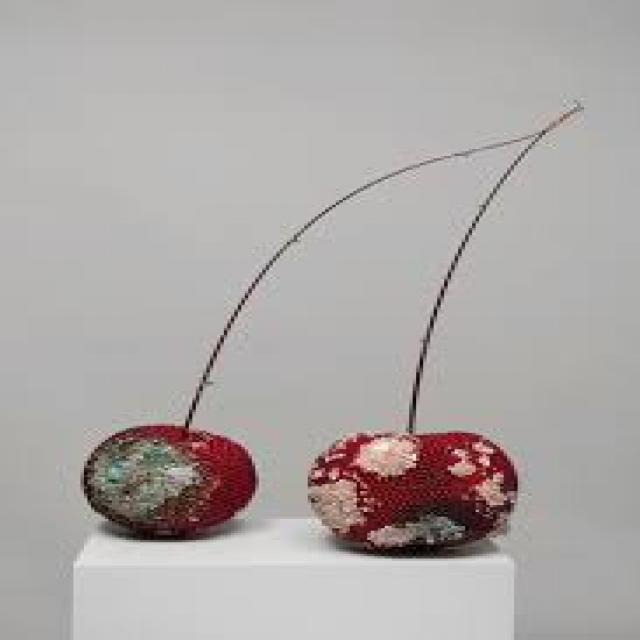organic waste: (304, 431, 514, 552), (77, 421, 255, 538)
